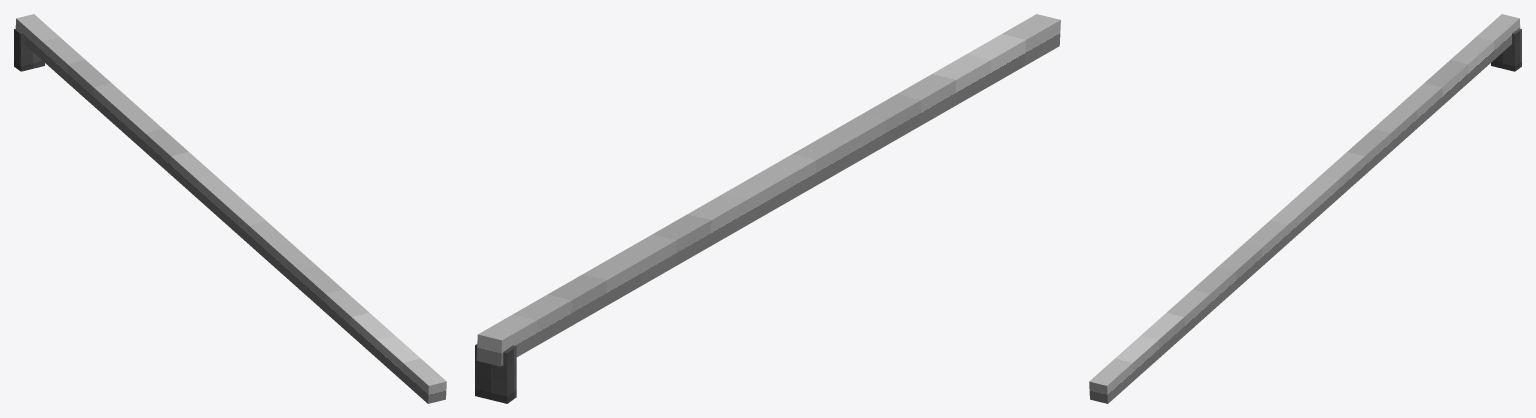
File: contact_wire_holder_simple_inner.obj
3 renders of one model, left to right at view 1: azimuth 30°, elevation 25°; view 2: azimuth 150°, elevation 25°; view 3: azimuth 330°, elevation 25°, orthographic. The views are drawn at different scales.
Visible parts, largest first — view 1: p33, p32; view 2: p33, p32; view 3: p33, p32.
Boxes of the visible parts, x1,y1,x2,y2 form: p33: (15,14,446,403); p32: (14,28,44,71); p33: (476,14,1060,366); p32: (475,344,516,403); p33: (1089,14,1520,403); p32: (1491,28,1521,71).
Bounding box in the file's own units: 0.0625 × 0.2101 × 1.87.
